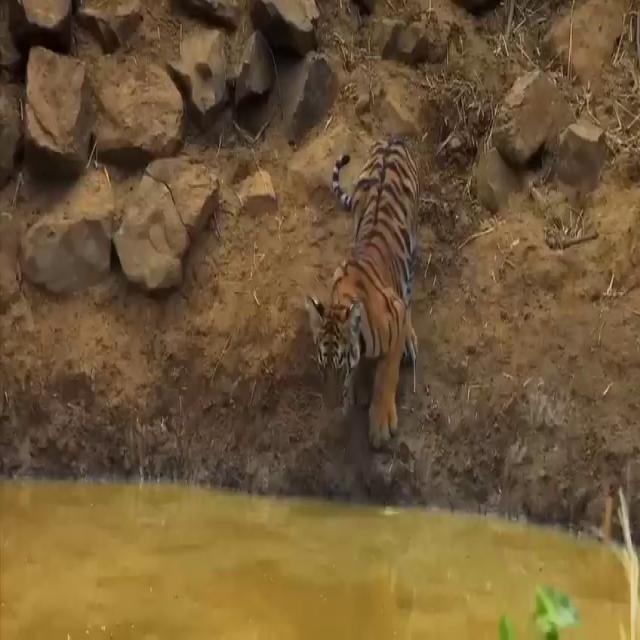tiger: (304, 132, 420, 452)
